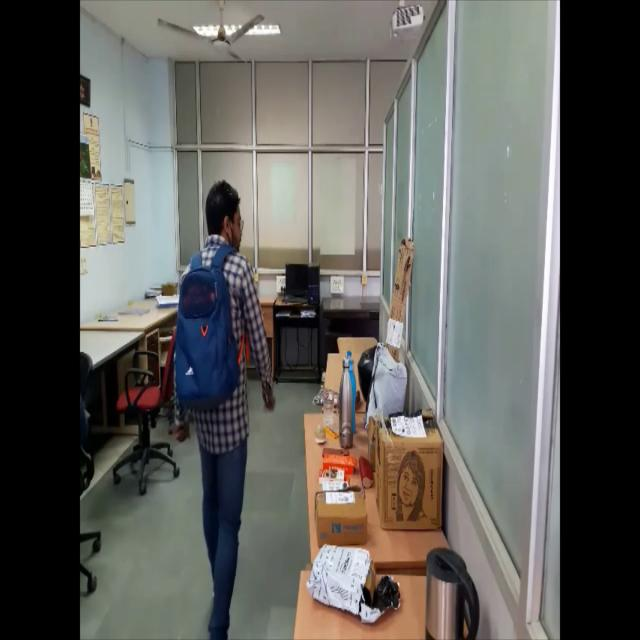normal: (169, 175, 278, 640)
